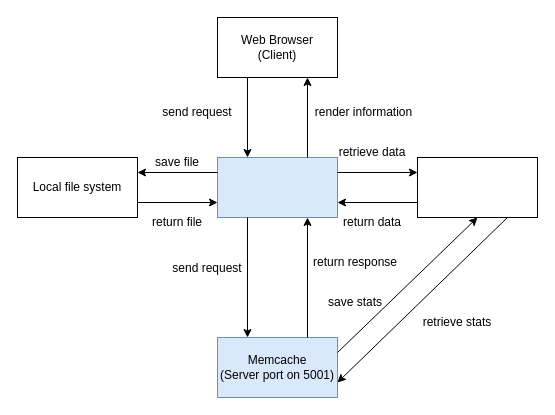
The diagram is 555 pixels wide and 415 high, and some of its shapes have lost their labels. Each missing label, with the centre of its shape:
Database: point 477,187
Frontend (Server port on 5000): point 277,187
